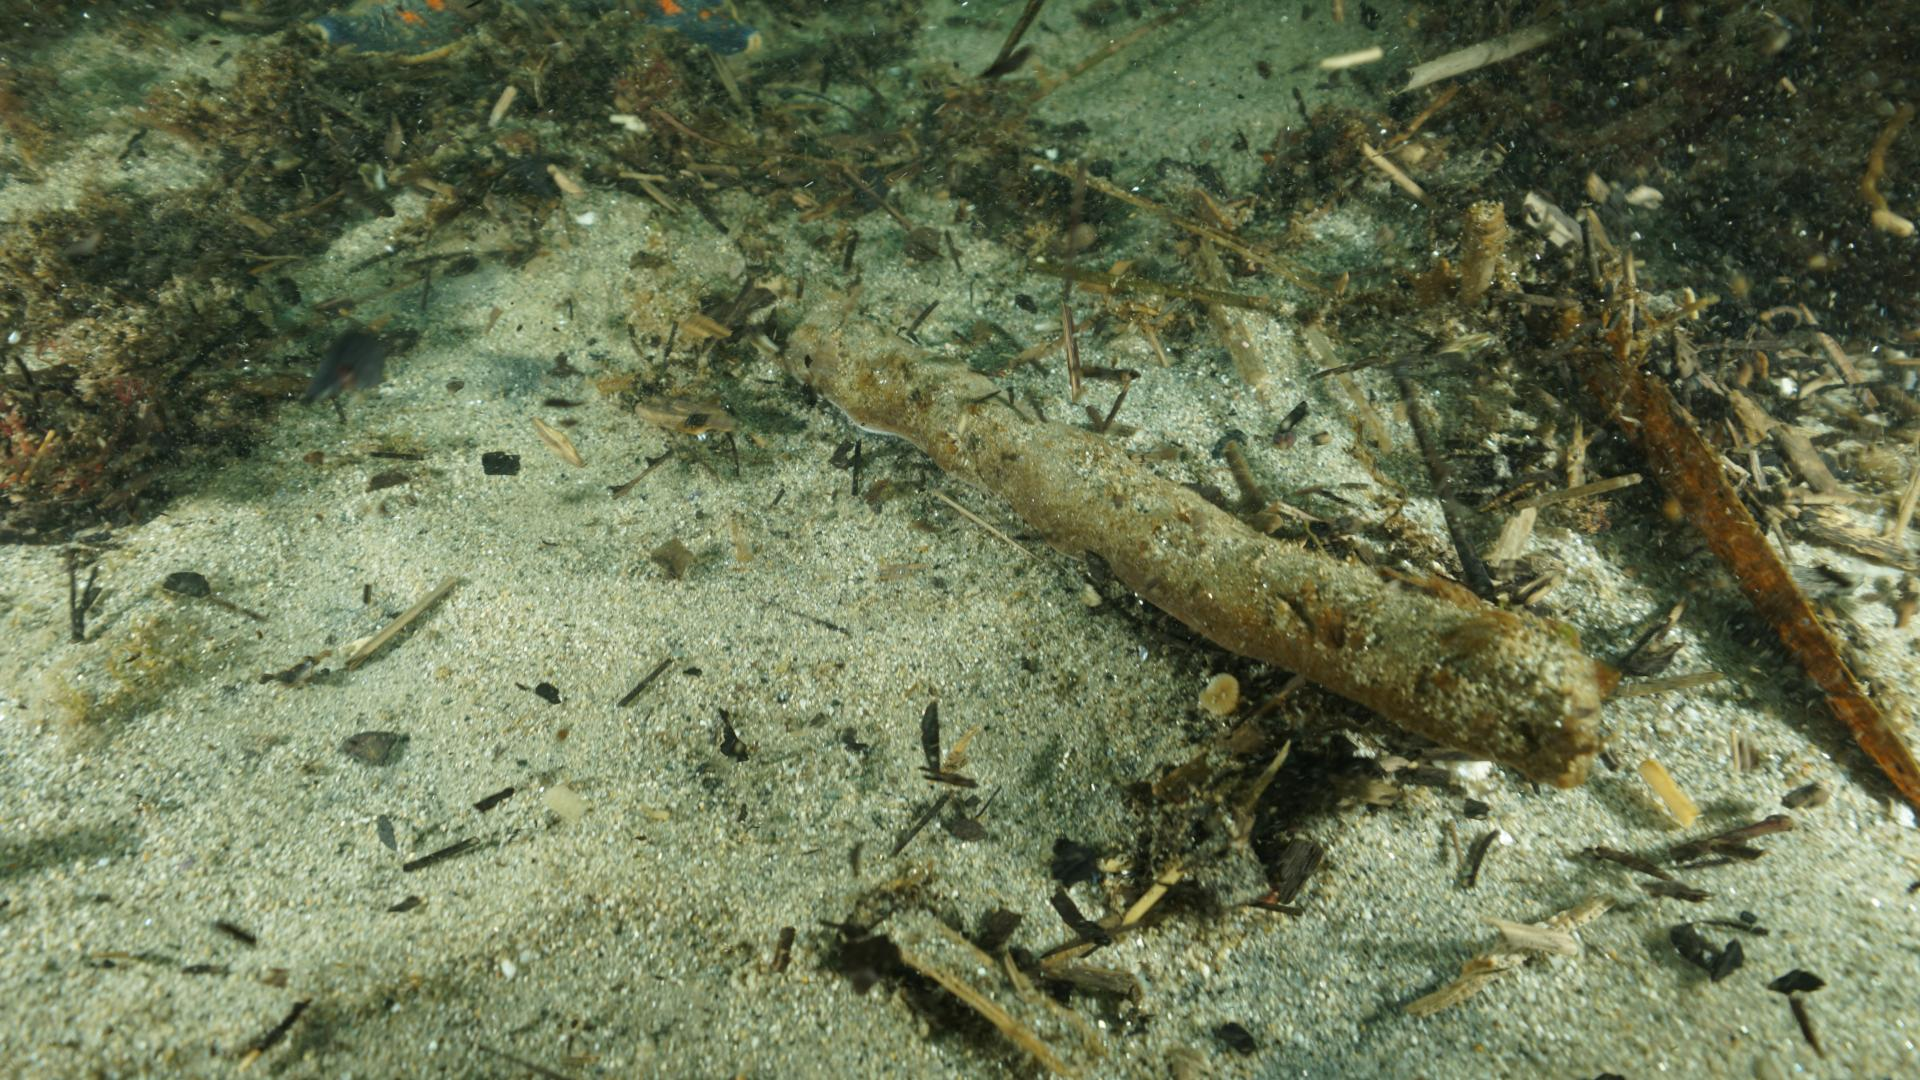wood: (778, 297, 1600, 789)
